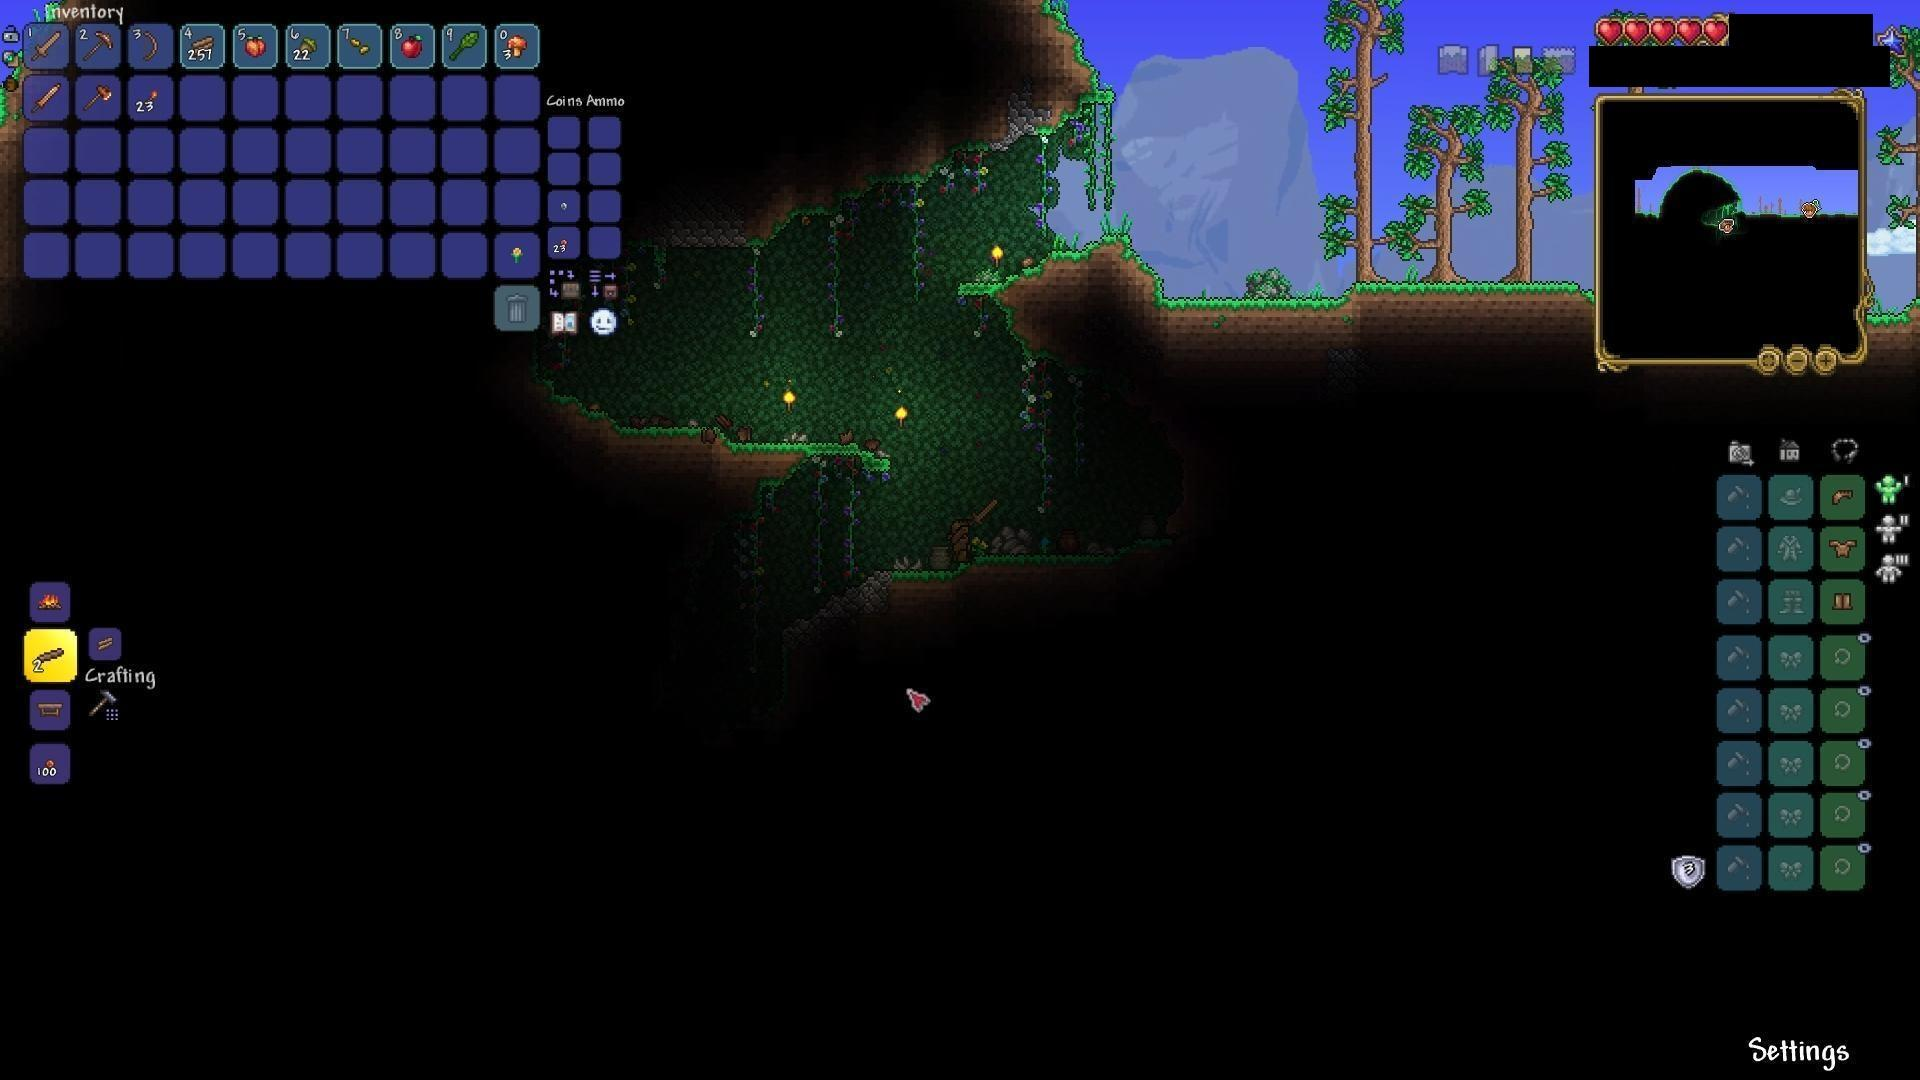dirt: (529, 385, 906, 477), (757, 135, 992, 251), (1160, 269, 1593, 322), (899, 530, 1185, 589), (957, 231, 1175, 305), (1055, 3, 1127, 148)
heart: (1702, 17, 1733, 51), (1593, 16, 1626, 46), (1676, 15, 1704, 50), (1650, 16, 1676, 49), (1625, 15, 1651, 44)
tree: (1325, 0, 1403, 293), (1489, 70, 1561, 291), (1404, 107, 1480, 280)
